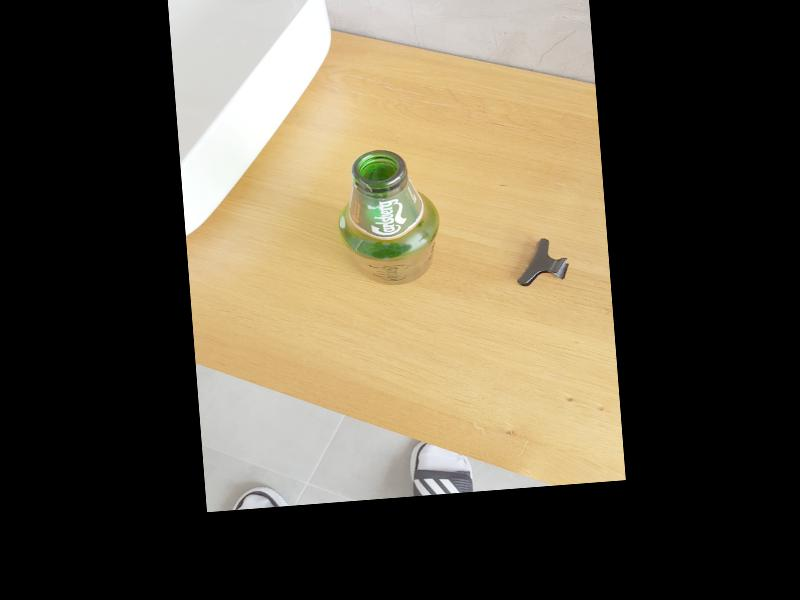Beer: (331, 147, 444, 289)
